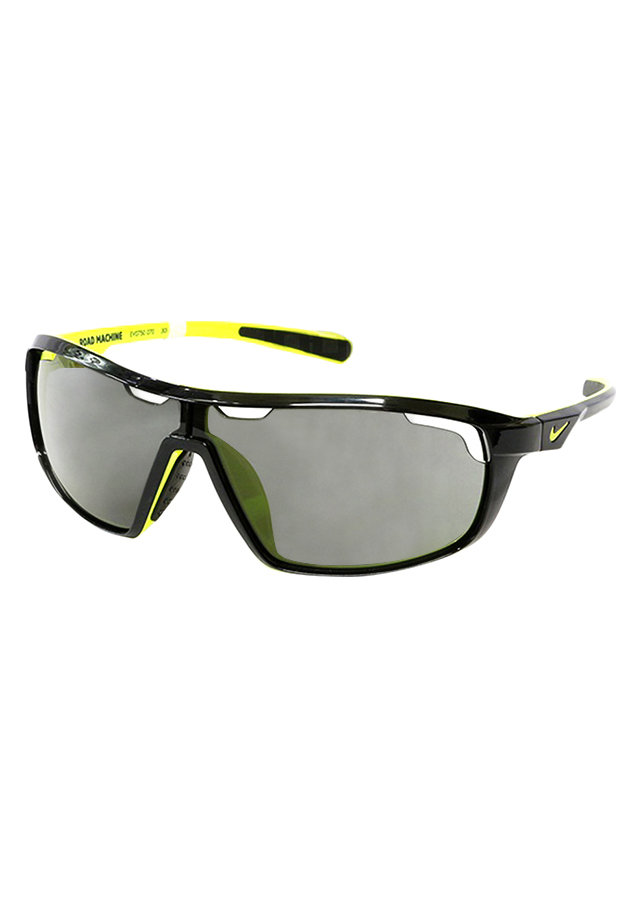Nike: (544, 416, 575, 450)
